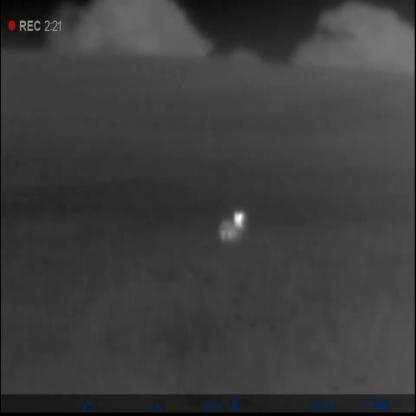rehkitze: (218, 211, 247, 245)
